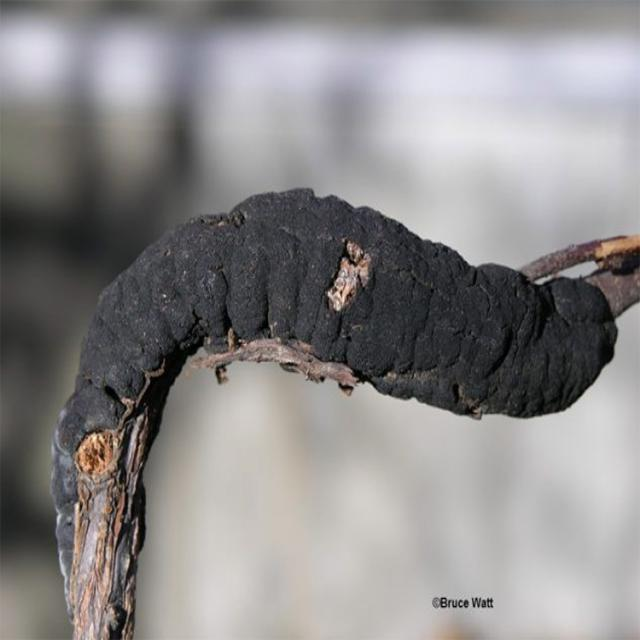Black_knot: (49, 184, 636, 636)
